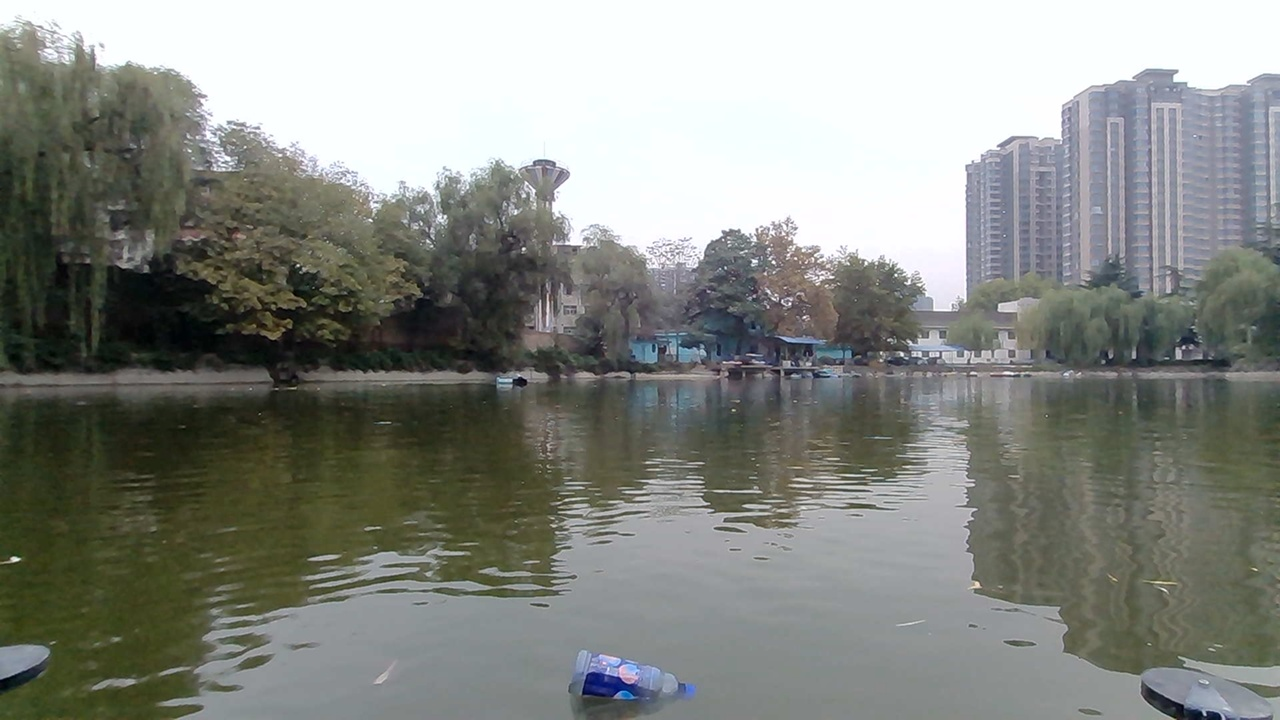bottle: (562, 650, 687, 713)
